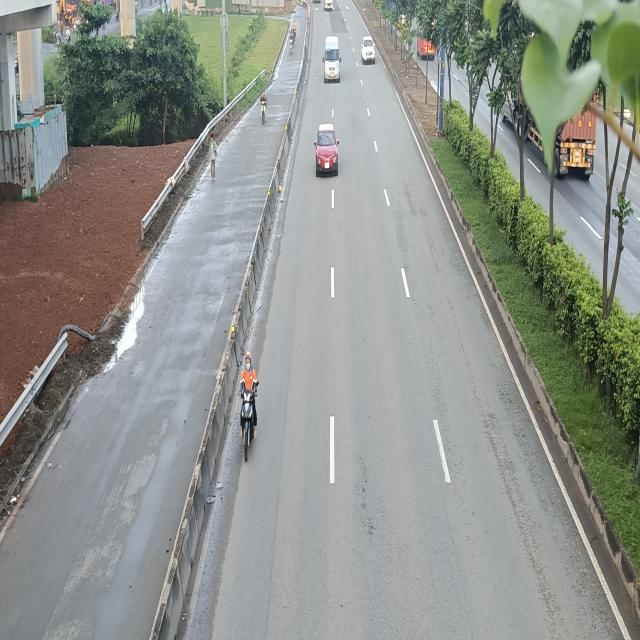car: (314, 124, 340, 176), (360, 36, 375, 64)
van: (322, 34, 341, 82)
